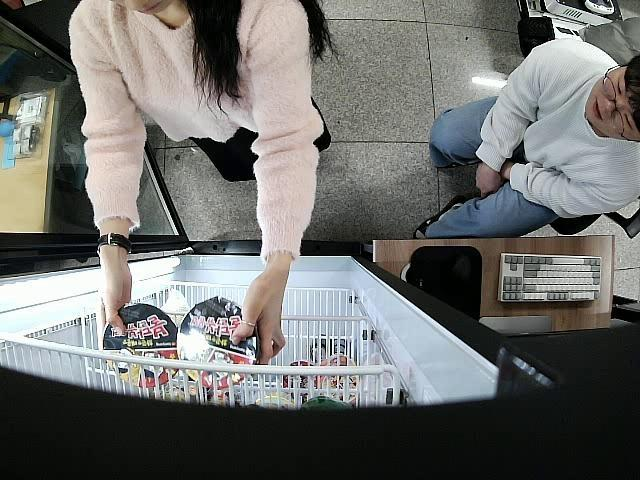07_buldak_L: (176, 298, 263, 388), (102, 304, 178, 385)
